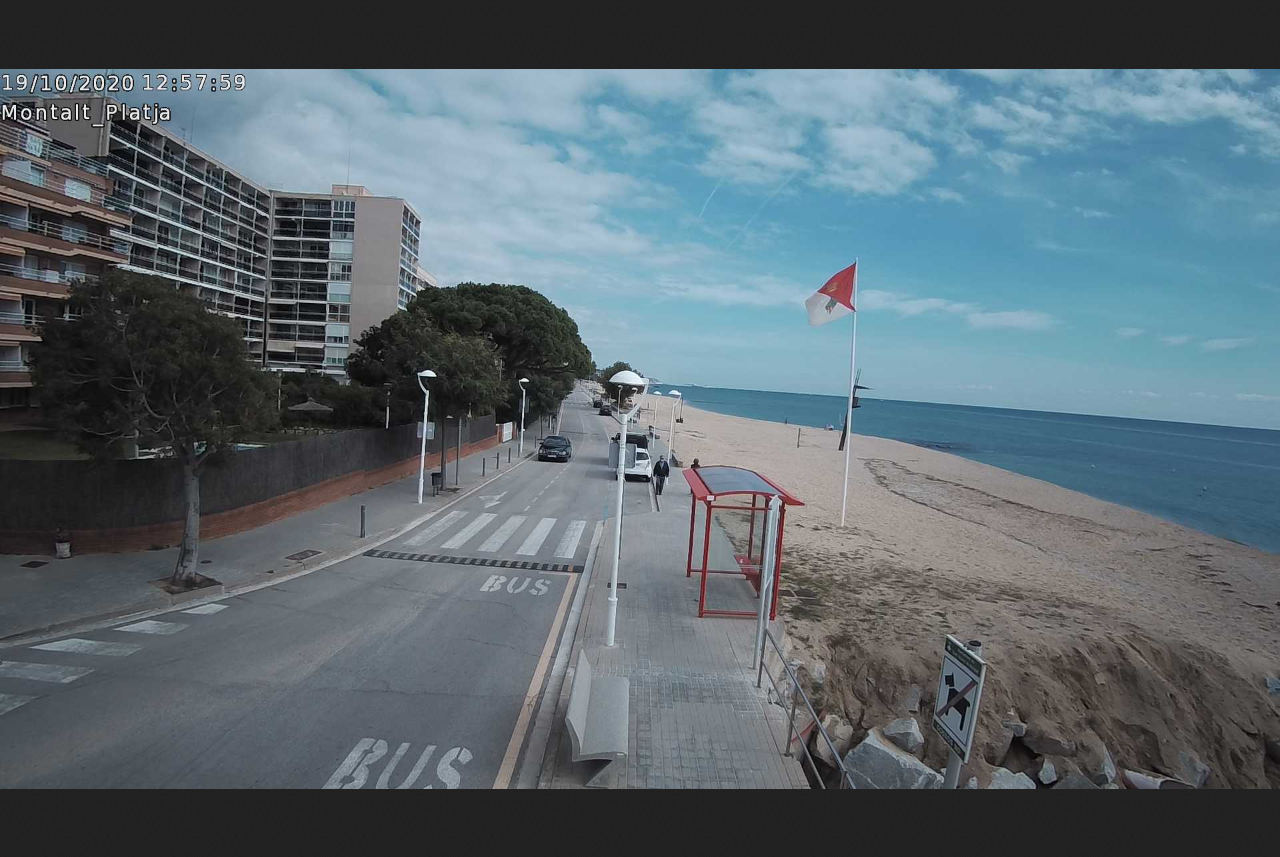maybe: (802, 263, 854, 326)
